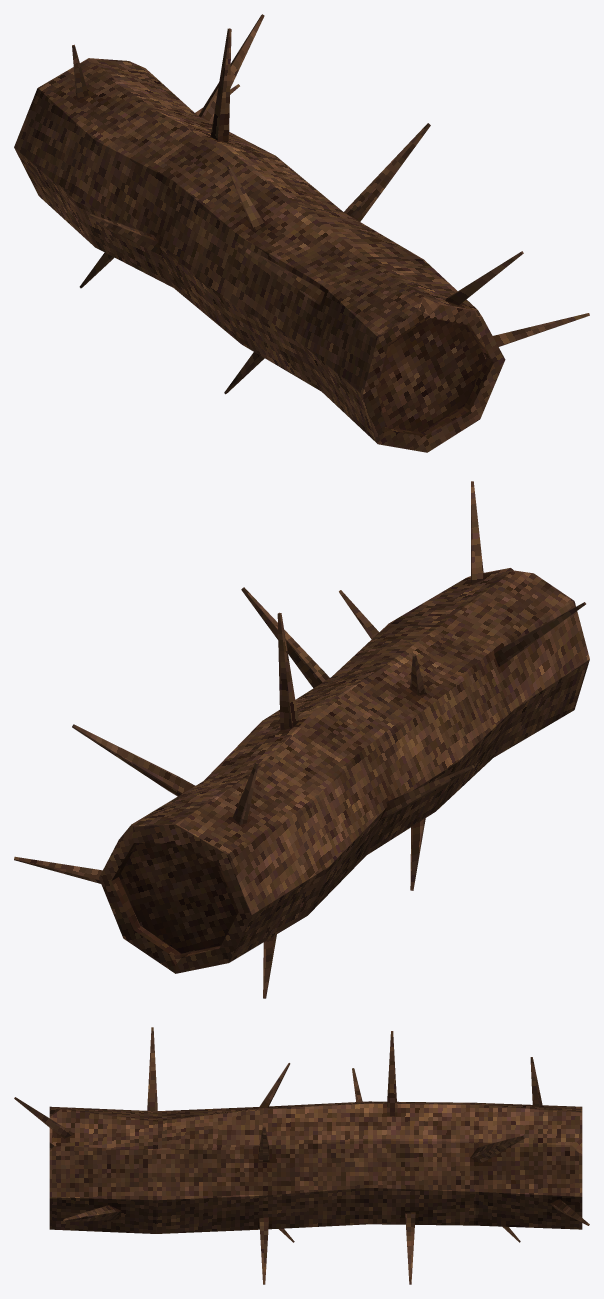
The model's file is log-spiked-variant1.glb.
The picture shows the model from 3 angles, top to bottom: view 1: azimuth 30°, elevation 25°; view 2: azimuth 150°, elevation 25°; view 3: azimuth 270°, elevation 25°; orthographic projection. The views are drawn at different scales.
Parts seen in each view (by area): view 1: Log_Spiked_Variant1; view 2: Log_Spiked_Variant1; view 3: Log_Spiked_Variant1.
Boxes of the visible parts, left/top/right/bottom form: Log_Spiked_Variant1: left=14, top=14, right=589, bottom=452; Log_Spiked_Variant1: left=14, top=481, right=589, bottom=998; Log_Spiked_Variant1: left=14, top=1027, right=589, bottom=1284.
Bounding box in the file's own units: 3.21 × 2.93 × 6.46.
Materials: 1 (1 with a texture image).
